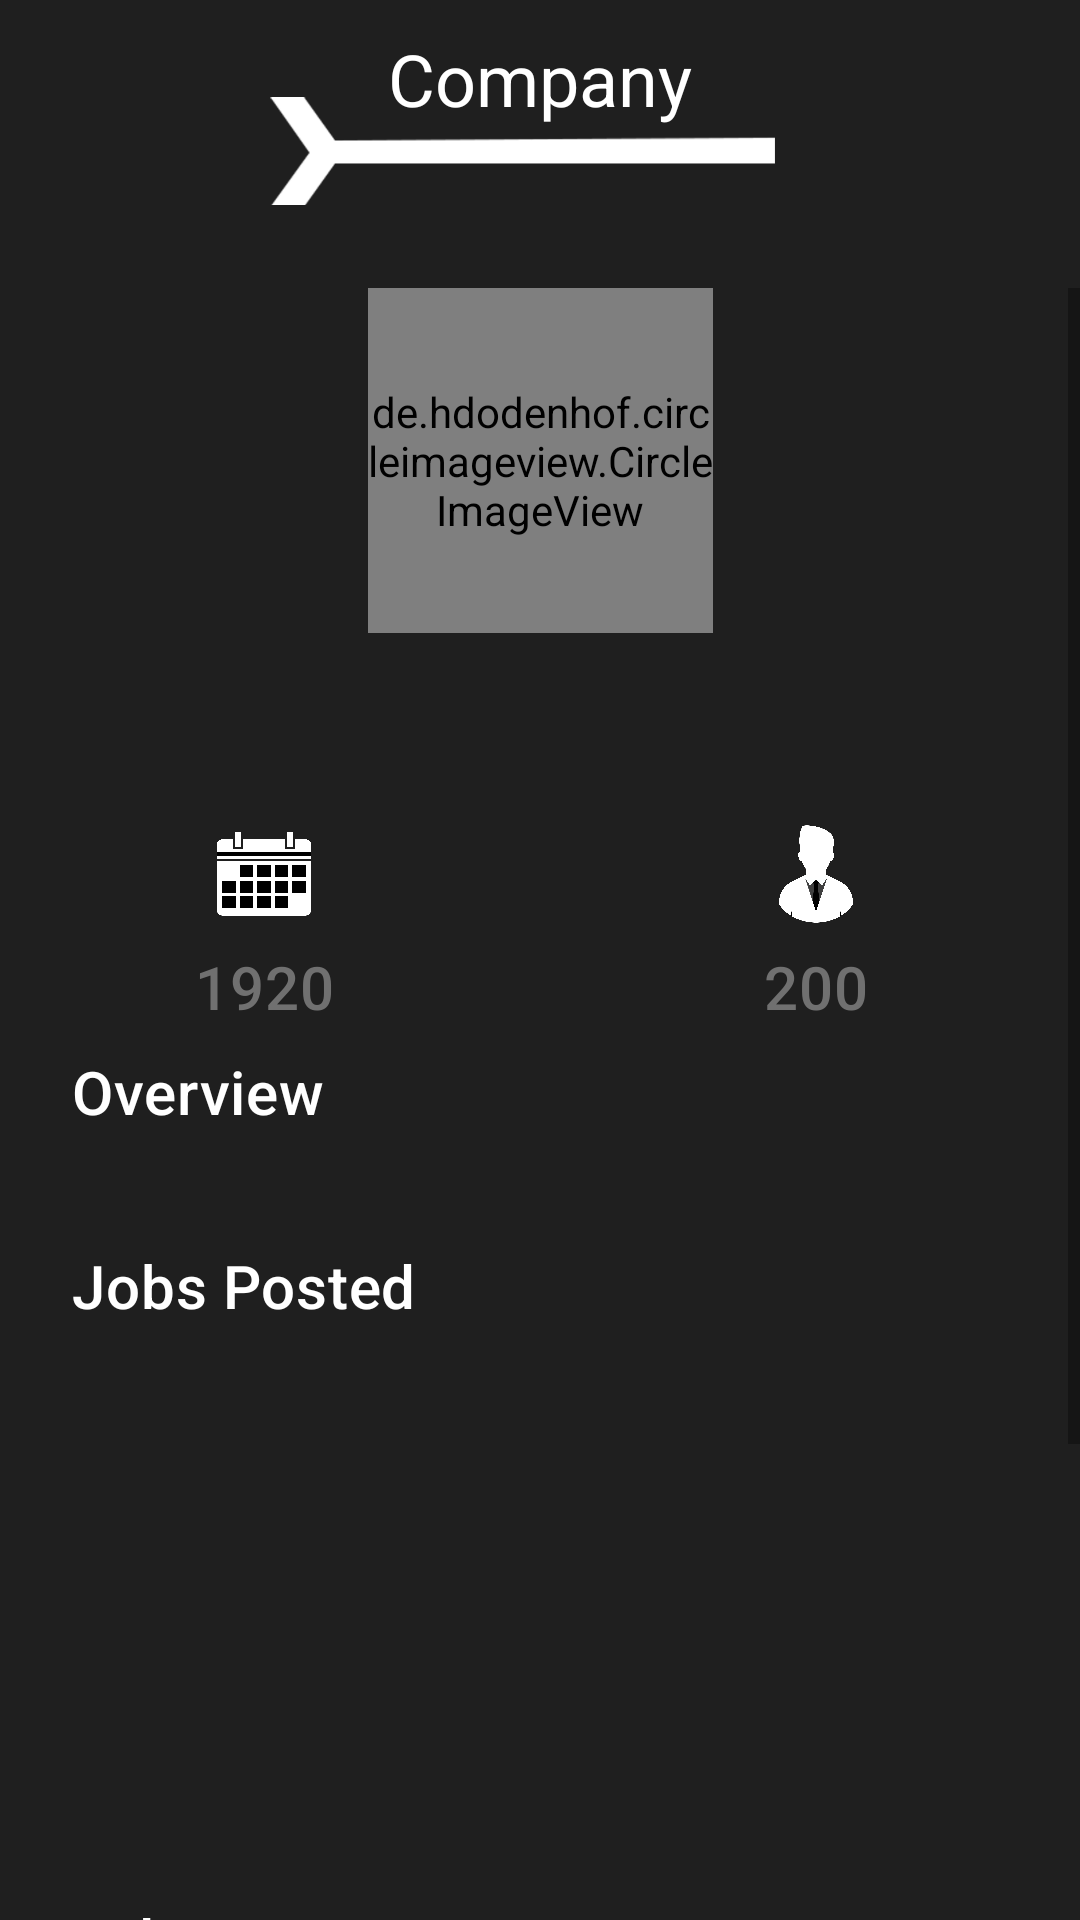

Where to tap for icons on this 1080w x 1920h app screen, as [x,y]:
company employee: [816,874]
company founded: [264,874]
